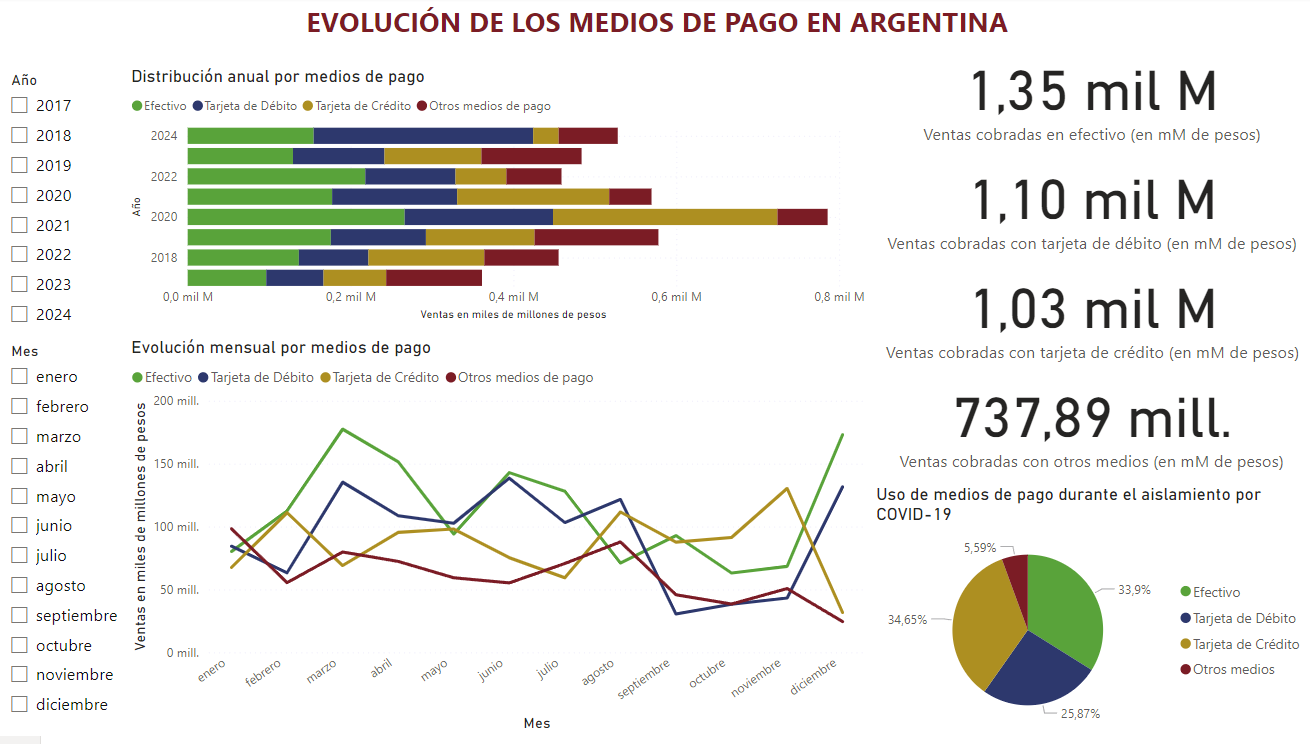

What the dashboard file says about the page in this screenshot:
{"tool":"powerbi","page":{"name":"Medios de Pago","canvas":[1280,720],"ordinal":2},"visuals":[{"type":"textbox","box":[9.7,0,1270.3,42.8],"z":0},{"type":"barChart","title":"Distribución anual por medios de pago","fields":{"Y":["Sum(ventas-totales-supermercados-2 (1).efectivo_mil_millones)","Sum(ventas-totales-supermercados-2 (1).debito_mil_millones)","Sum(ventas-totales-supermercados-2 (1).credito_mil_millones)","Sum(ventas-totales-supermercados-2 (1).otros_medios_mil_millones)"],"Category":["ventas-totales-supermercados-2 (1).Filtro Temporal.Variación.Jerarquía de fechas.Año"]},"box":[124.5,67.1,723.6,251.9],"z":1000},{"type":"slicer","fields":{"Values":["ventas-totales-supermercados-2 (1).Filtro Temporal.Variación.Jerarquía de fechas.Año"]},"box":[0,67.1,124.5,279.1],"z":2000},{"type":"slicer","fields":{"Values":["ventas-totales-supermercados-2 (1).Filtro Temporal.Variación.Jerarquía de fechas.Mes"]},"box":[0,330.7,124.5,389.1],"z":3000},{"type":"lineChart","title":"Evolución mensual por medios de pago","fields":{"Category":["ventas-totales-supermercados-2 (1).Filtro Temporal.Variación.Jerarquía de fechas.Mes"],"Y":["Sum(ventas-totales-supermercados-2 (1).efectivo_mil_millones)","Sum(ventas-totales-supermercados-2 (1).debito_mil_millones)","Sum(ventas-totales-supermercados-2 (1).credito_mil_millones)","Sum(ventas-totales-supermercados-2 (1).otros_medios_mil_millones)"]},"box":[124.5,330.7,723.6,389.1],"z":4000},{"type":"card","fields":{"Values":["Sum(ventas-totales-supermercados-2 (1).efectivo_mil_millones)"]},"box":[848.1,42.8,431.9,104.1],"z":5000},{"type":"card","fields":{"Values":["Sum(ventas-totales-supermercados-2 (1).debito_mil_millones)"]},"box":[848.1,146.9,431.9,107],"z":6000},{"type":"card","fields":{"Values":["Sum(ventas-totales-supermercados-2 (1).credito_mil_millones)"]},"box":[849.1,252.9,430.9,107],"z":7000},{"type":"card","fields":{"Values":["Sum(ventas-totales-supermercados-2 (1).otros_medios_mil_millones)"]},"box":[848.1,359.9,430.9,106],"z":8000},{"type":"pieChart","title":"Uso de medios de pago durante el aislamiento por COVID-19","fields":{"Y":["Sum(ventas-totales-supermercados-2 (1).efectivo_mil_millones)","Sum(ventas-totales-supermercados-2 (1).debito_mil_millones)","Sum(ventas-totales-supermercados-2 (1).credito_mil_millones)","Sum(ventas-totales-supermercados-2 (1).otros_medios_mil_millones)"]},"box":[849,474,431,246],"z":9000}]}

Visuals, with their boxes in screenshot pixels (x1, y1, x2, y2), scaled from the page's 1280x720 canvas onto the 1310x744 screenshot:
textbox: box(10, 0, 1309, 44)
"Distribución anual por medios de pago" barChart: box(127, 69, 868, 330)
slicer - ventas-totales-supermercados-2 (1).Filtro Temporal.Variación.Jerarquía de fechas.Año: box(0, 69, 127, 358)
slicer - ventas-totales-supermercados-2 (1).Filtro Temporal.Variación.Jerarquía de fechas.Mes: box(0, 342, 127, 743)
"Evolución mensual por medios de pago" lineChart: box(127, 342, 868, 743)
card - Sum(ventas-totales-supermercados-2 (1).efectivo_mil_millones): box(868, 44, 1309, 152)
card - Sum(ventas-totales-supermercados-2 (1).debito_mil_millones): box(868, 152, 1309, 262)
card - Sum(ventas-totales-supermercados-2 (1).credito_mil_millones): box(869, 261, 1309, 372)
card - Sum(ventas-totales-supermercados-2 (1).otros_medios_mil_millones): box(868, 372, 1309, 481)
"Uso de medios de pago durante el aislamiento por COVID-19" pieChart: box(869, 490, 1309, 743)
